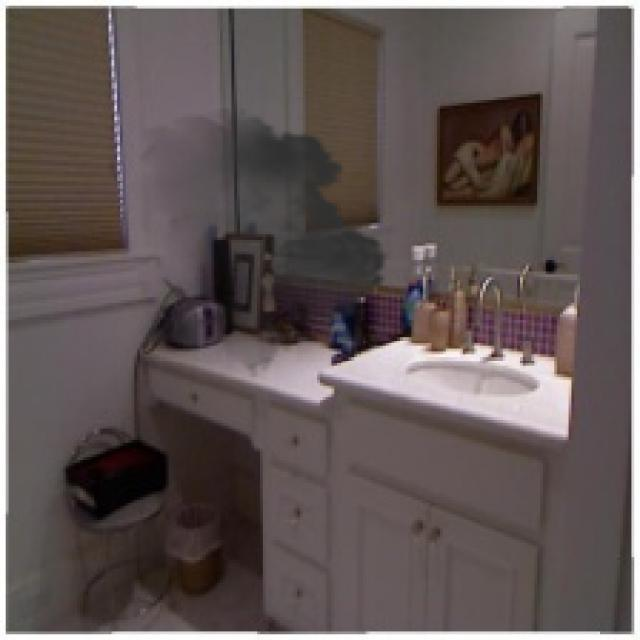Smoke: (126, 108, 397, 380)
